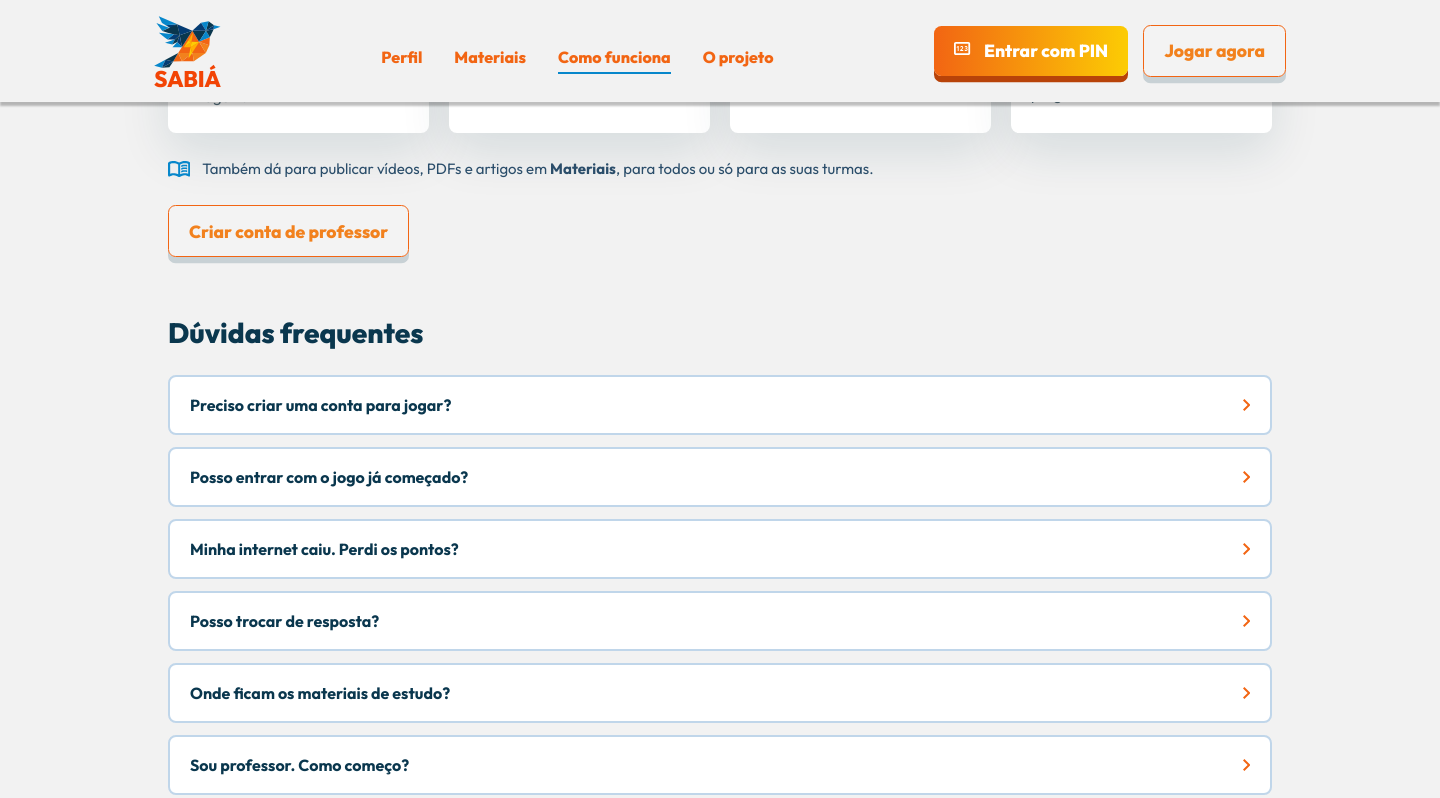
it: Como funciona › explica os passos, a pontuação e responde as dúvidas
(page scrolled)
Expected: the text "Dá para entrar só com um apelido" is not shown
Click the heading "Preciso criar uma conta para jogar?".
click(321, 405)  # box 190,395 -> 1250,415
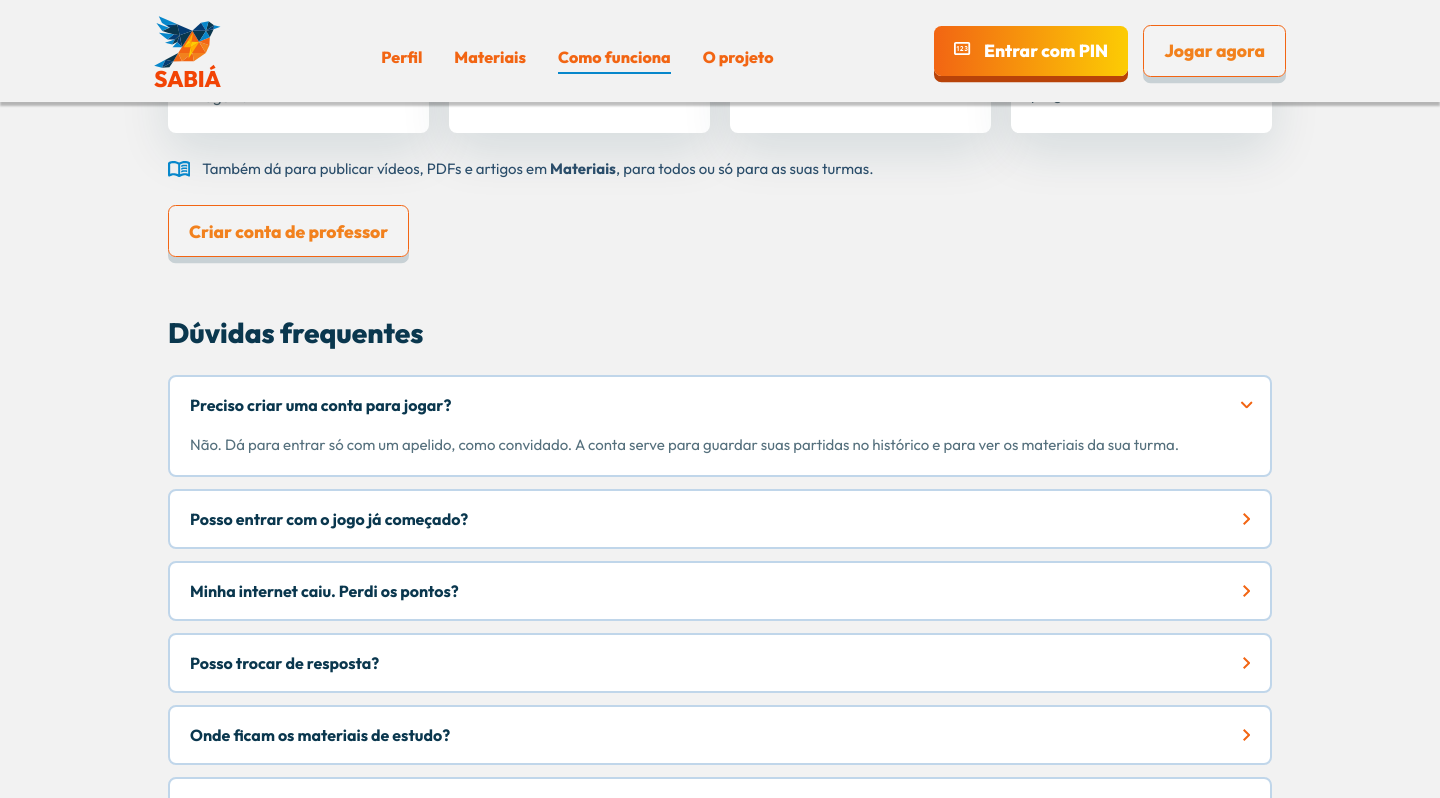
Result: the text "Dá para entrar só com um apelido" is shown at 190,435 -> 1179,454
